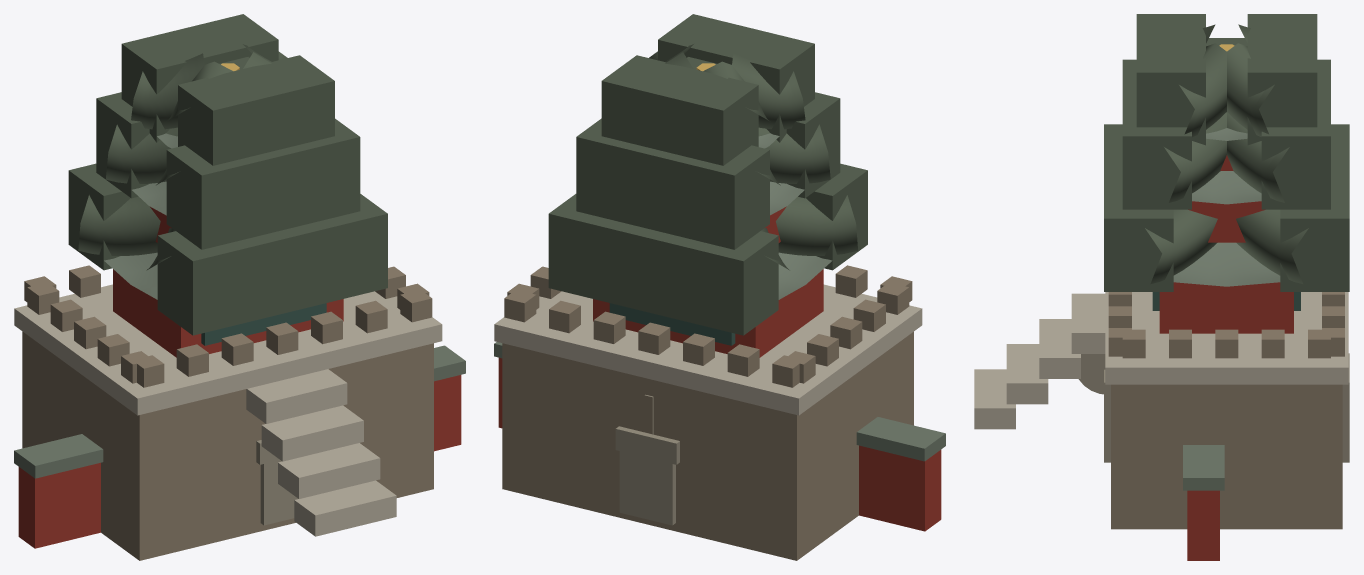
3 renders of one model, left to right at view 1: azimuth 30°, elevation 25°; view 2: azimuth 150°, elevation 25°; view 3: azimuth 270°, elevation 25°, orthographic.
Size of the model in its own units: 0.212 by 0.2021 by 0.162.
